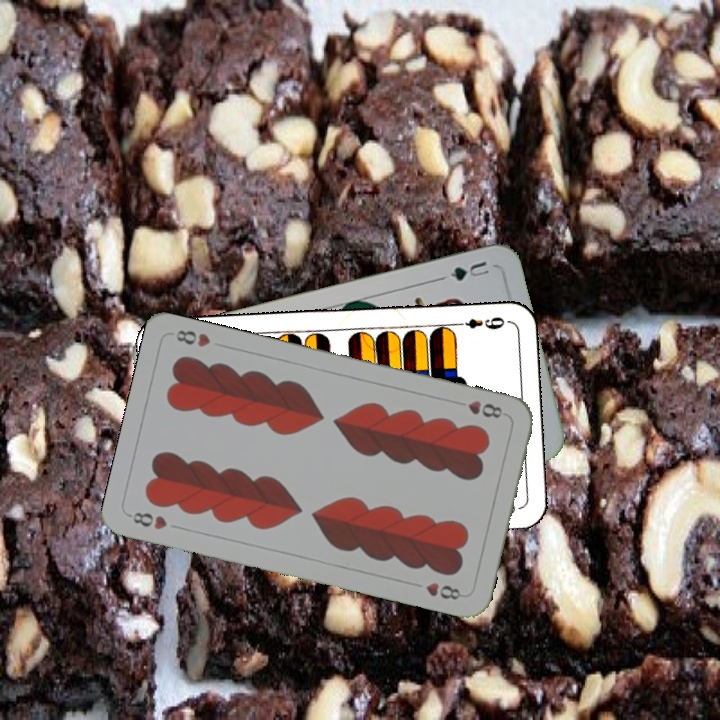E9: (451, 312, 510, 332)
GU: (436, 257, 492, 284)
H8: (451, 396, 505, 421), (125, 508, 170, 533)
